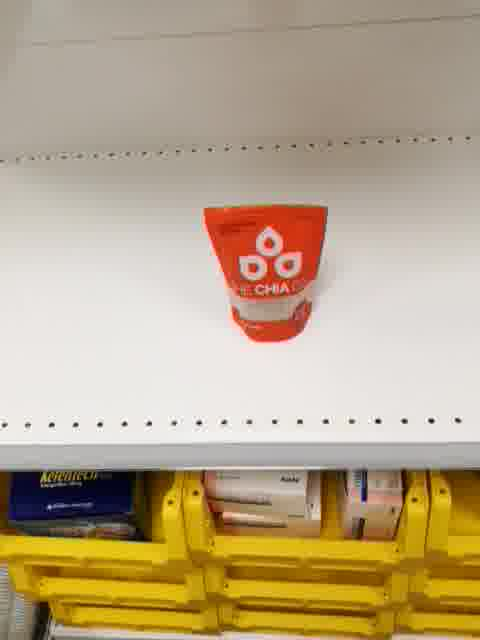whitechia: (202, 203, 330, 344)
